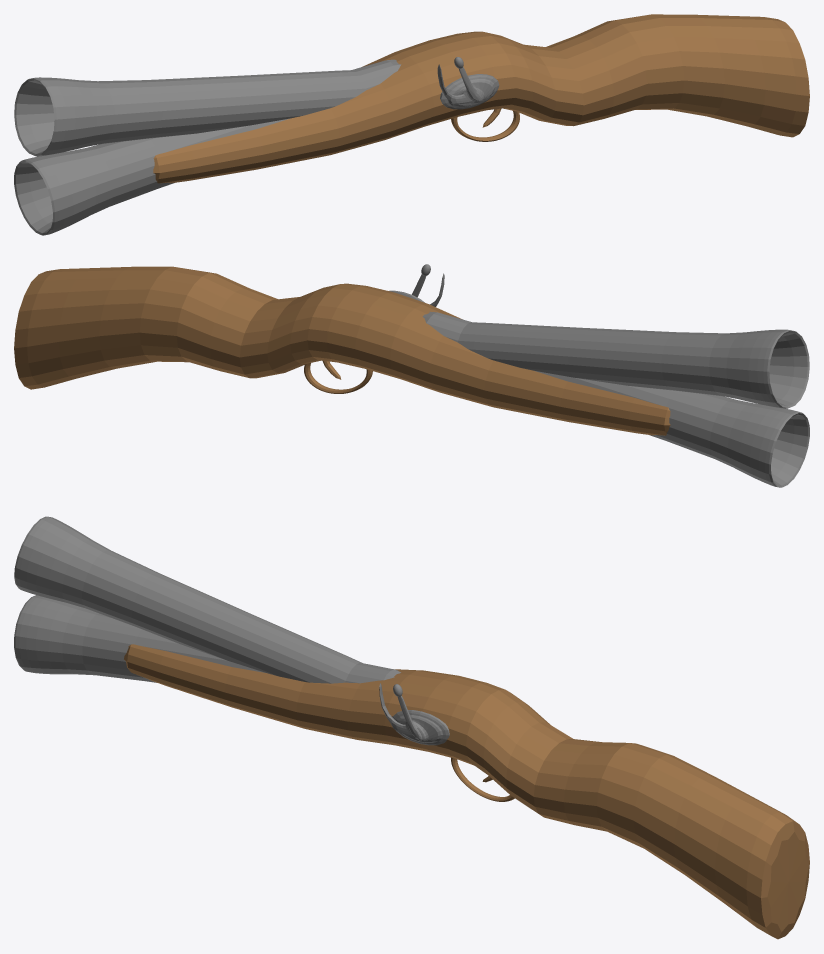
Rendered from 2shotgun.fbx.
The picture shows the model from 3 angles, top to bottom: view 1: azimuth 30°, elevation 25°; view 2: azimuth 150°, elevation 25°; view 3: azimuth 330°, elevation 25°; orthographic projection.
Parts seen in each view (by area): view 1: Circle; view 2: Circle; view 3: Circle.
Part boxes in pixels (x1,y1,x2,y2): Circle: (14, 14, 809, 235); Circle: (14, 264, 809, 487); Circle: (14, 516, 809, 939).
Bounding box in the file's own units: 3429 × 1015 × 454.
